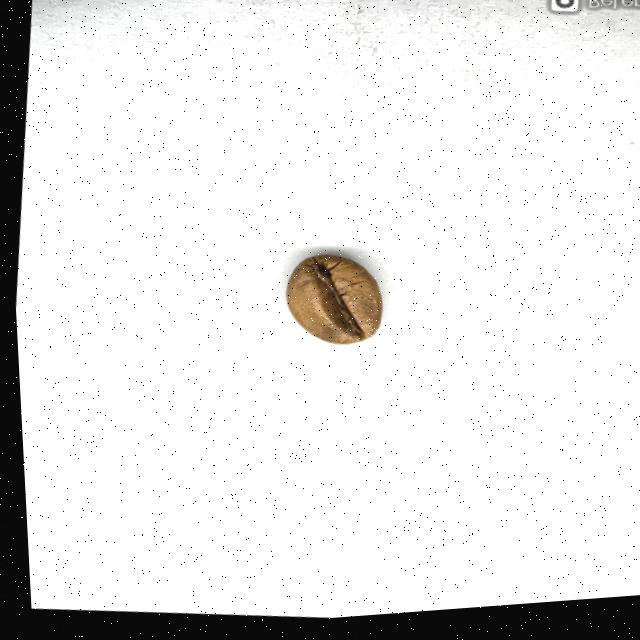Good bean: (278, 257, 382, 352)
